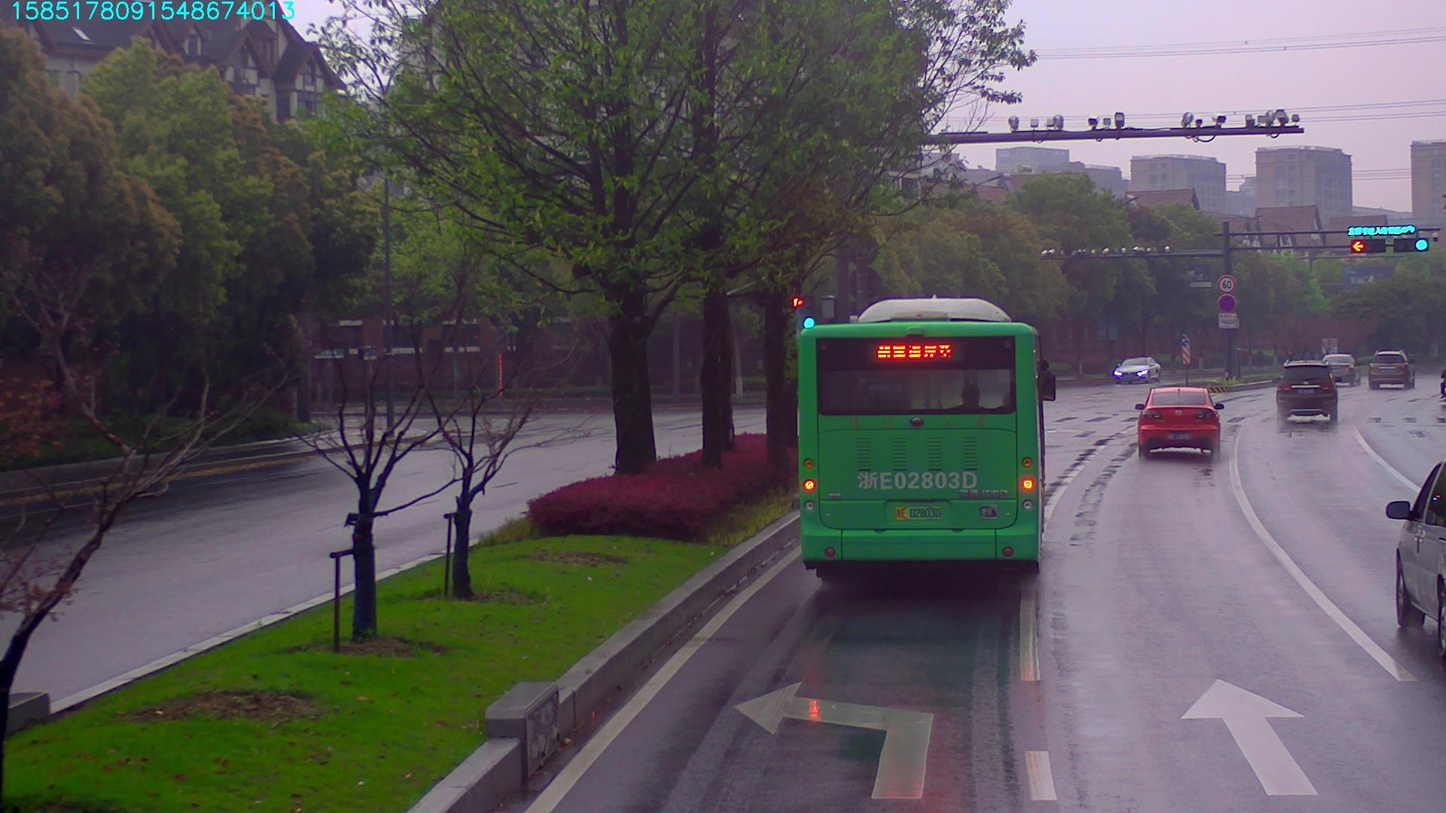green: (1391, 236, 1425, 253)
red: (1347, 236, 1384, 251)
wait_on: (1345, 224, 1417, 237)
